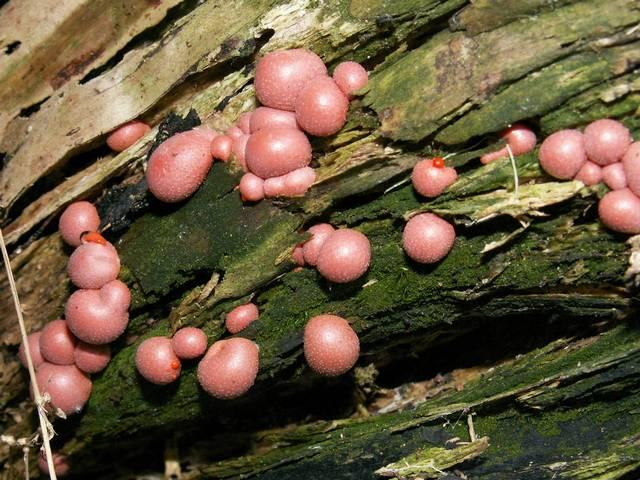Non-edible Mushroom: (144, 46, 368, 204), (26, 189, 140, 430), (538, 117, 639, 234), (144, 127, 217, 202), (253, 47, 327, 110), (196, 336, 260, 399), (302, 312, 360, 376), (244, 125, 312, 178), (315, 227, 371, 283), (401, 211, 455, 264), (134, 335, 181, 385), (410, 155, 457, 197)
